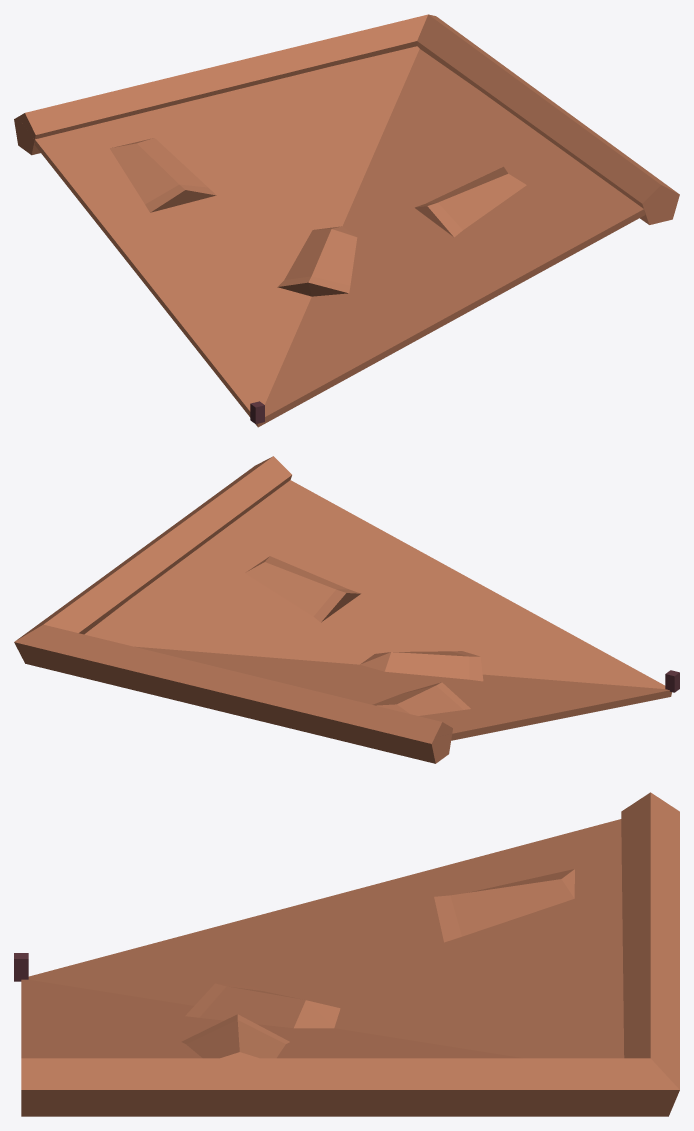
The model's file is empire-roof-inner-vertical-3x3m-in-edge-empire.glb.
The picture shows the model from 3 angles, top to bottom: view 1: azimuth 30°, elevation 25°; view 2: azimuth 150°, elevation 25°; view 3: azimuth 270°, elevation 25°; orthographic projection. The views are drawn at different scales.
Visible parts, largest first — view 1: SM_Roof_Inner_Vertical_3x3m_In_Edge_Empire; view 2: SM_Roof_Inner_Vertical_3x3m_In_Edge_Empire; view 3: SM_Roof_Inner_Vertical_3x3m_In_Edge_Empire.
Boxes of the visible parts, bbox=[...] form: SM_Roof_Inner_Vertical_3x3m_In_Edge_Empire: bbox=[14, 14, 679, 427]; SM_Roof_Inner_Vertical_3x3m_In_Edge_Empire: bbox=[14, 456, 679, 763]; SM_Roof_Inner_Vertical_3x3m_In_Edge_Empire: bbox=[14, 792, 679, 1116].
Bounding box in the file's own units: 3.1 × 1.01 × 3.1.
